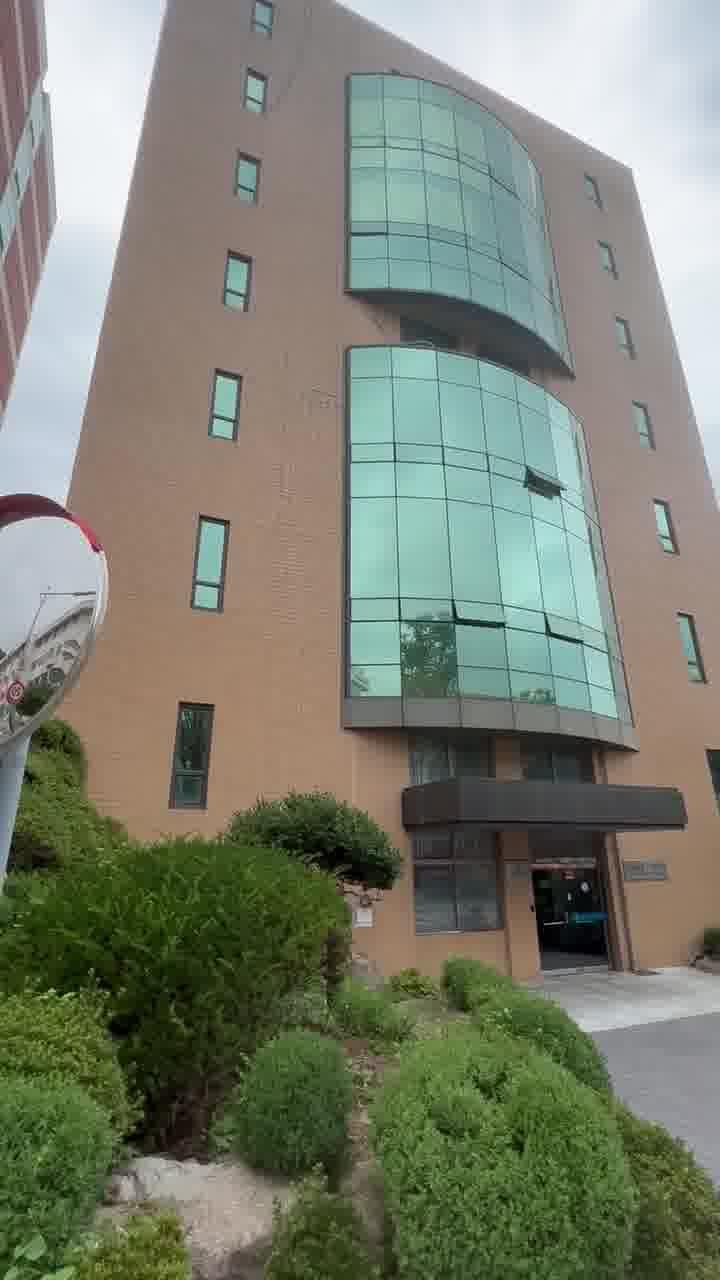building: (94, 14, 714, 846)
